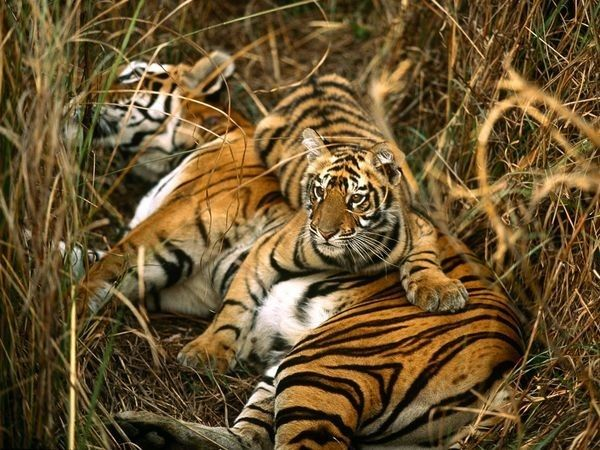Tigrew: (242, 58, 467, 315), (39, 41, 237, 325)
